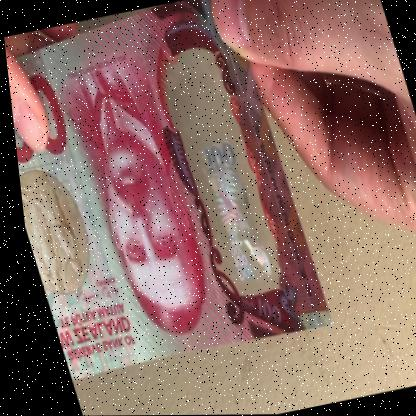100F: (175, 86, 274, 291)
